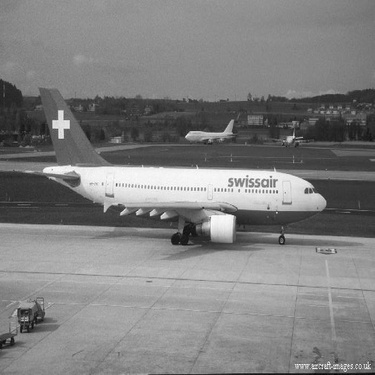airplane: (16, 54, 342, 260), (179, 116, 240, 149), (264, 118, 316, 153)
